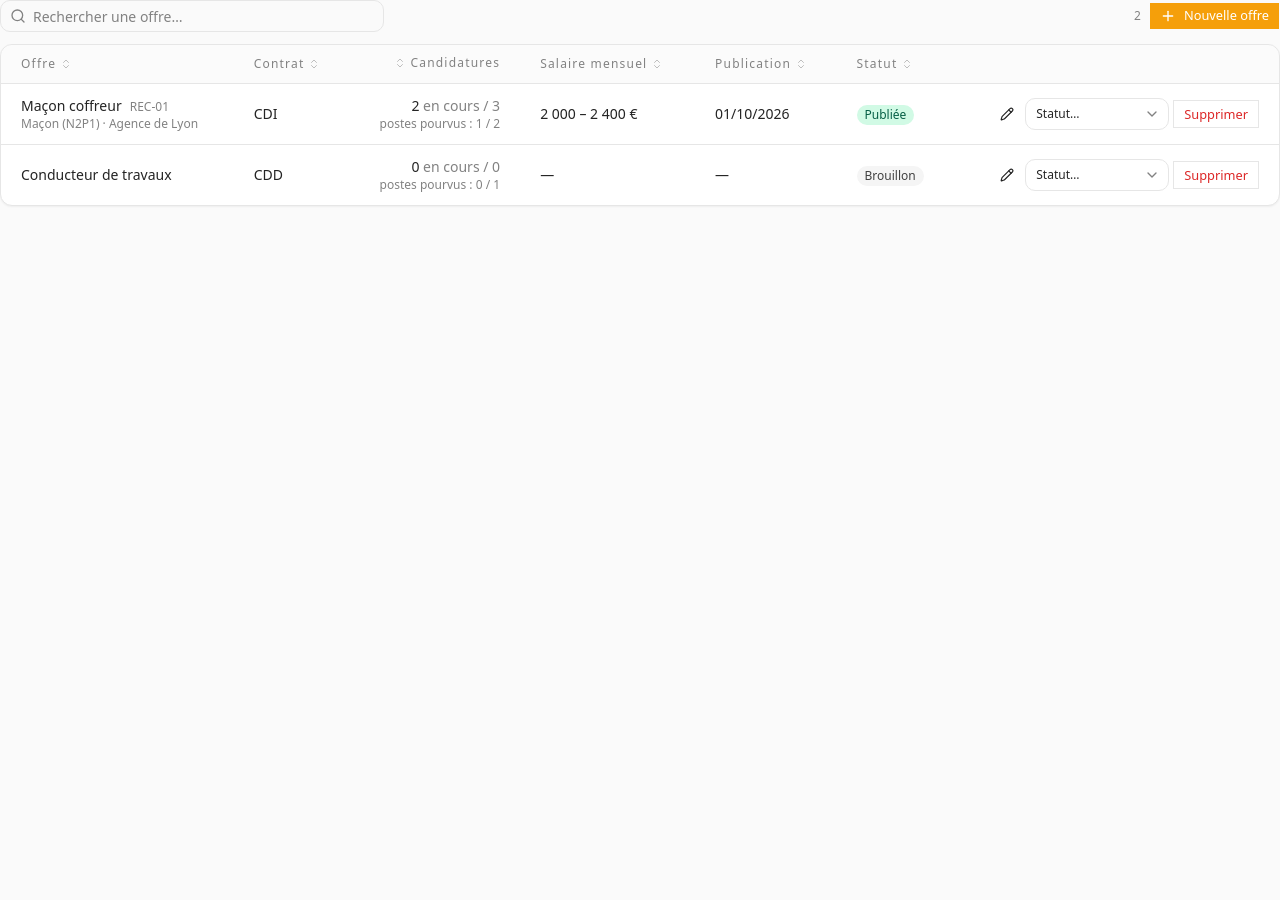
Scenario: OffresSection › refus serveur : message affiché dans la modale
Click the button named "Modifier Maçon coffreur". click: (1007, 114)
box: [993,100,1021,128]
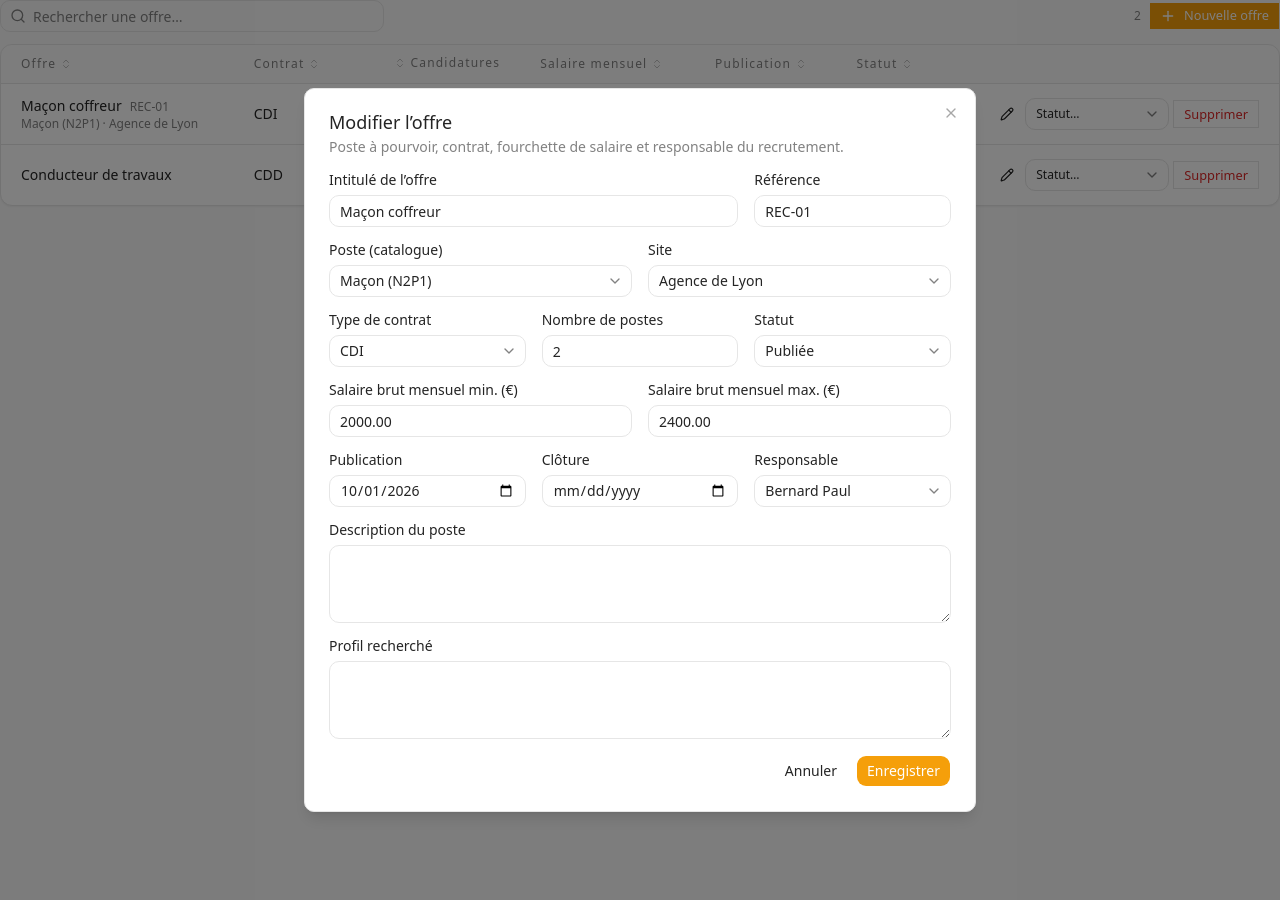
Click the button "Enregistrer". click: (904, 771)
box: [856,755,951,787]
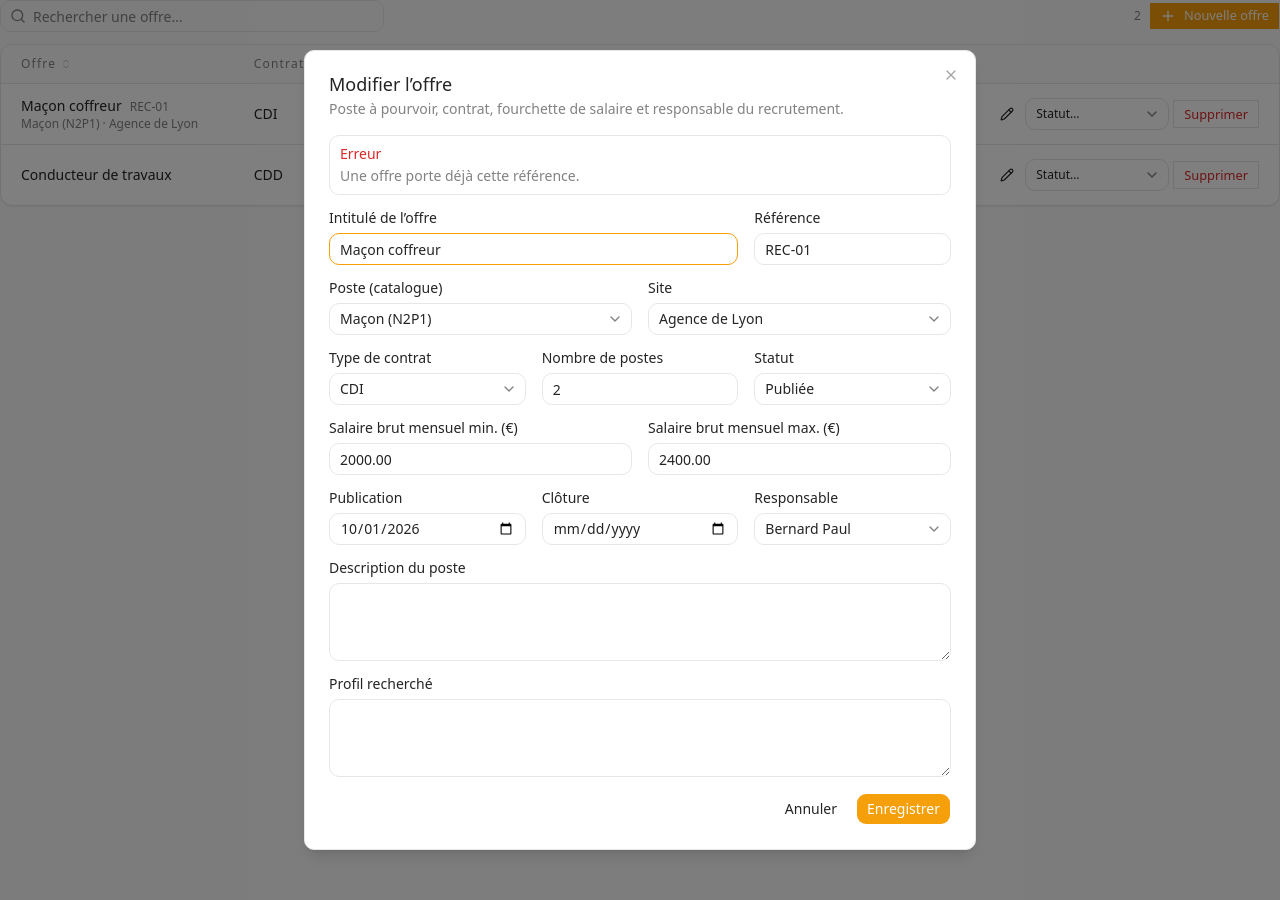
Expected: the text "Une offre porte déjà cette référence." is shown, [340,166,579,185]
